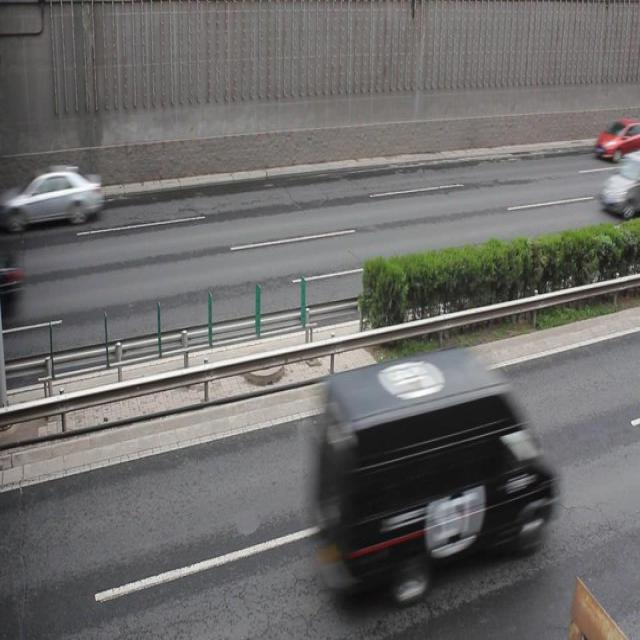car: (19, 162, 102, 227)
truck: (309, 347, 551, 600)
